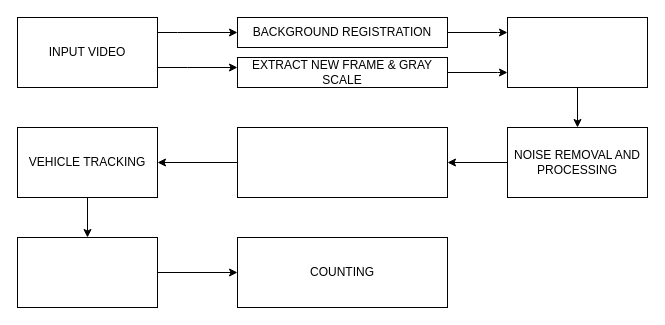
Image size: 665x325. Some labels were removed from this diagram. Each missing label, with the centre of its shape:
"BACKGROUND SUBTRACTION" goes at pixel 577 52.
"VEHICLE CLASSIFICATION" goes at pixel 87 272.
"VEHICLE DETECTION" goes at pixel 342 162.
